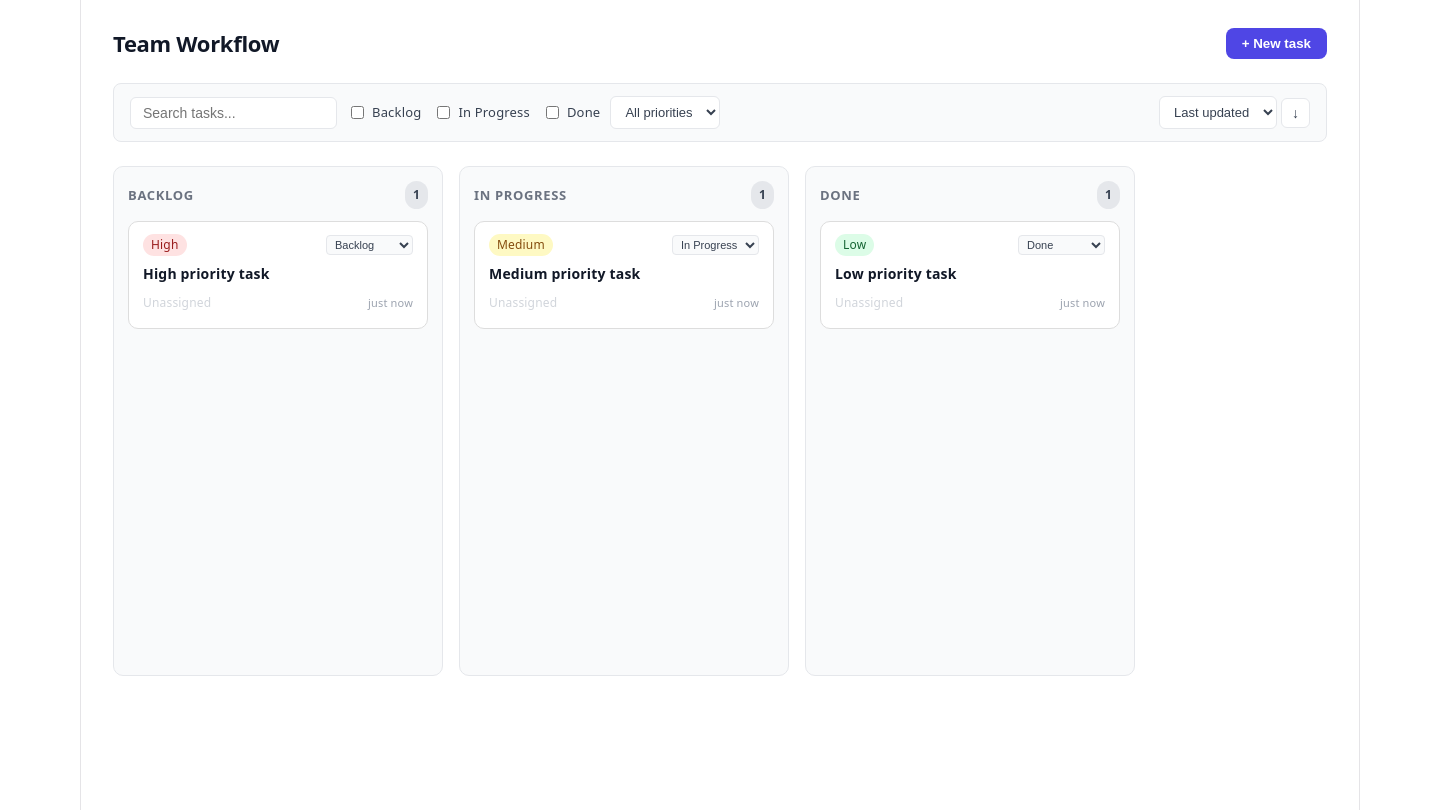
filtering and sorting › shows empty-filters message when nothing matches
Type "zzz-no-match" into the search field at x=234, y=112, box [130,96,337,128]
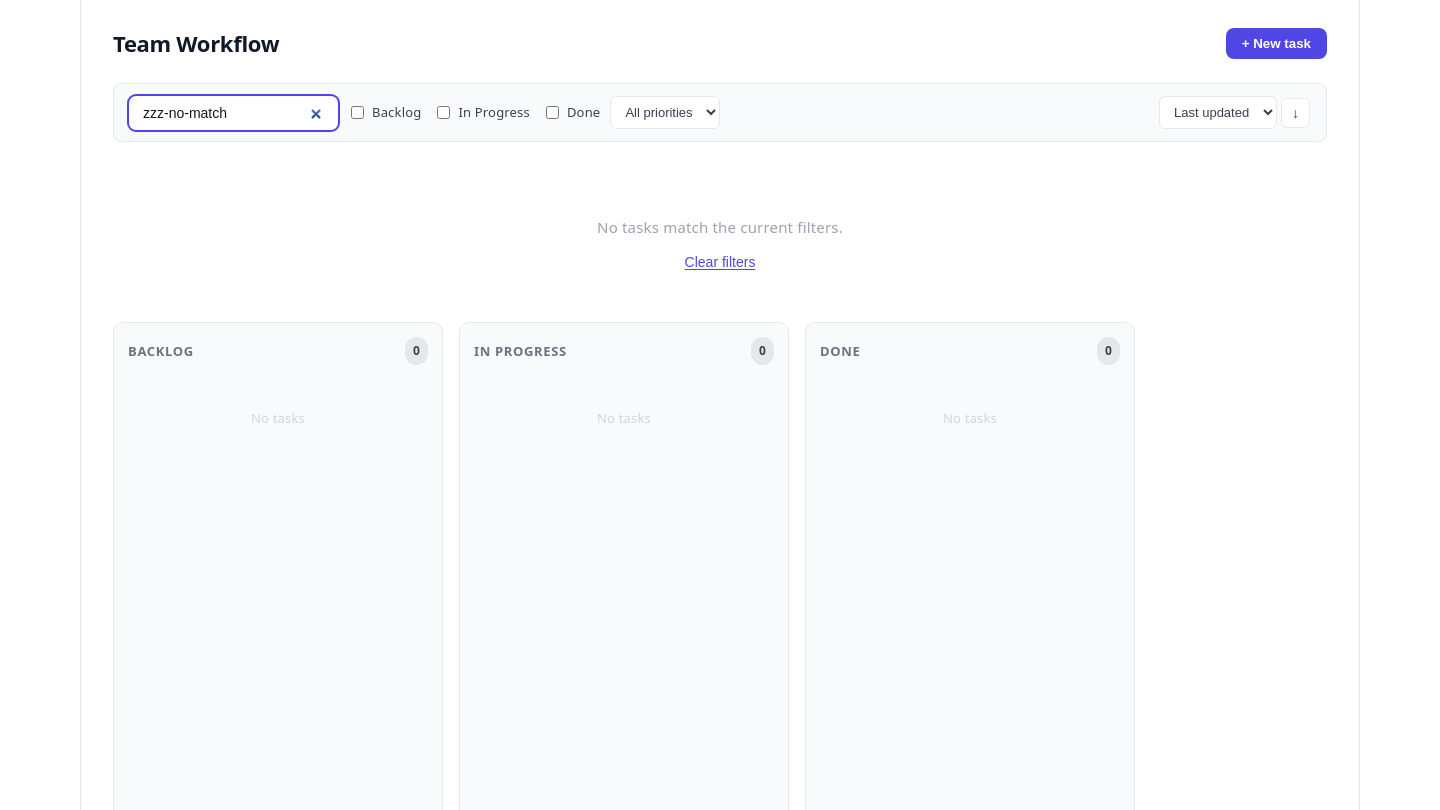
Now the text "No tasks match the current filters." is shown, box [597,217,843,237]
